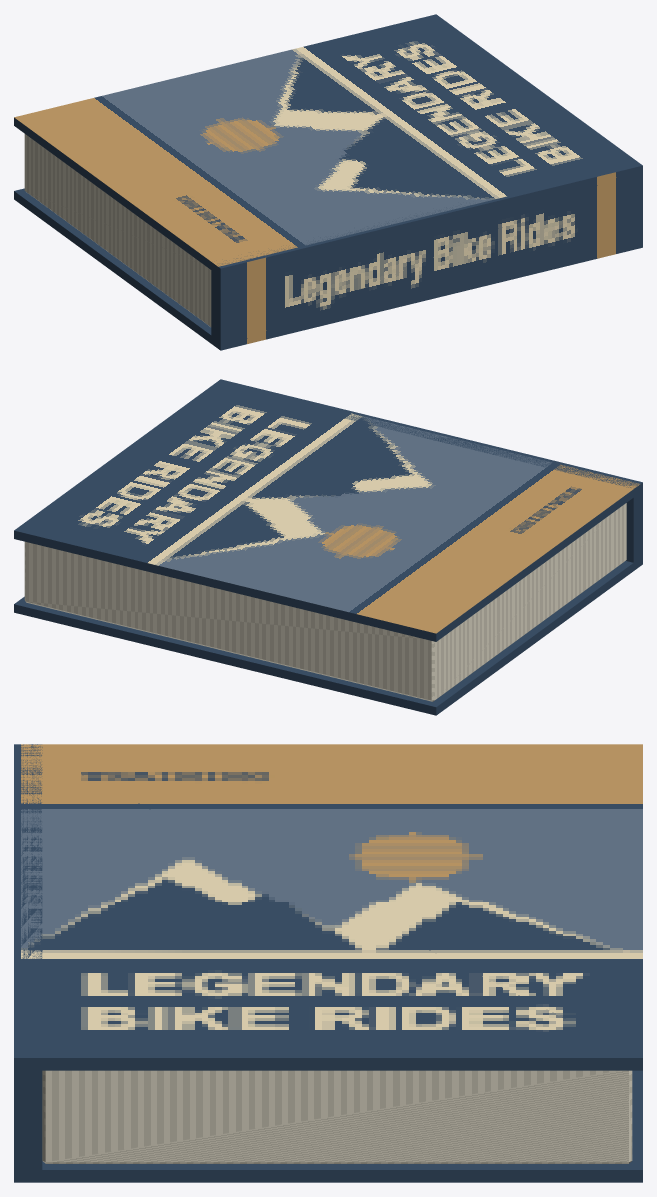
The model's file is book_nonf_hard_sports_bike.glb.
The picture shows the model from 3 angles, top to bottom: view 1: azimuth 30°, elevation 25°; view 2: azimuth 150°, elevation 25°; view 3: azimuth 270°, elevation 25°; orthographic projection. The views are drawn at different scales.
Visible parts, largest first — view 1: block_front, block_spine, block_pages, block_back; view 2: block_front, block_pages, block_back, block_spine; view 3: block_front, block_pages, block_back, block_spine.
Boxes of the visible parts, x1,y1,x2,y2 form: block_front: [14, 14, 640, 274]; block_spine: [211, 164, 642, 350]; block_pages: [24, 134, 211, 326]; block_back: [14, 188, 218, 348]; block_front: [14, 381, 639, 641]; block_pages: [24, 503, 626, 701]; block_back: [14, 561, 634, 715]; block_spine: [212, 379, 642, 570]; block_front: [21, 744, 642, 1070]; block_pages: [42, 1070, 632, 1163]; block_back: [21, 1070, 642, 1182]; block_spine: [14, 744, 42, 1182].
Size of the model in its own units: 0.27 by 0.0501 by 0.2289.
Materials: 1 (1 with a texture image).
